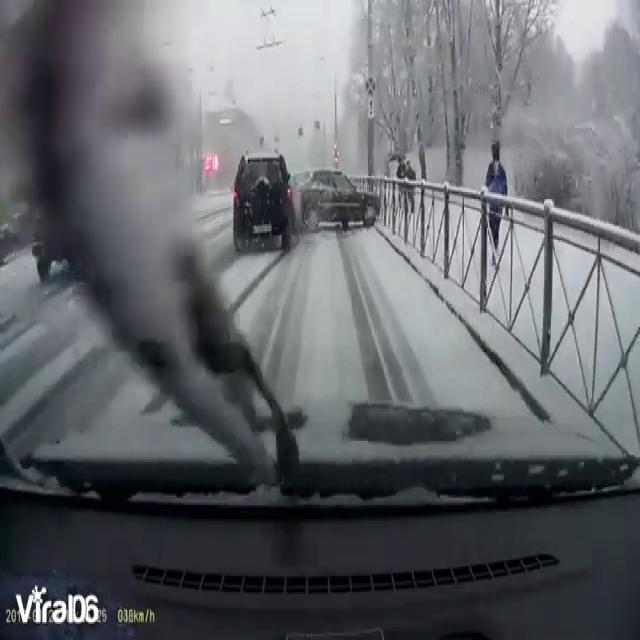moderate: (228, 140, 382, 256)
